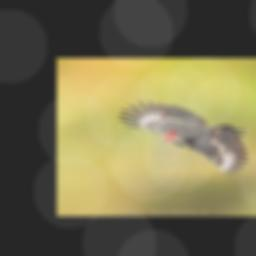Woodpecker: (116, 101, 250, 177)
